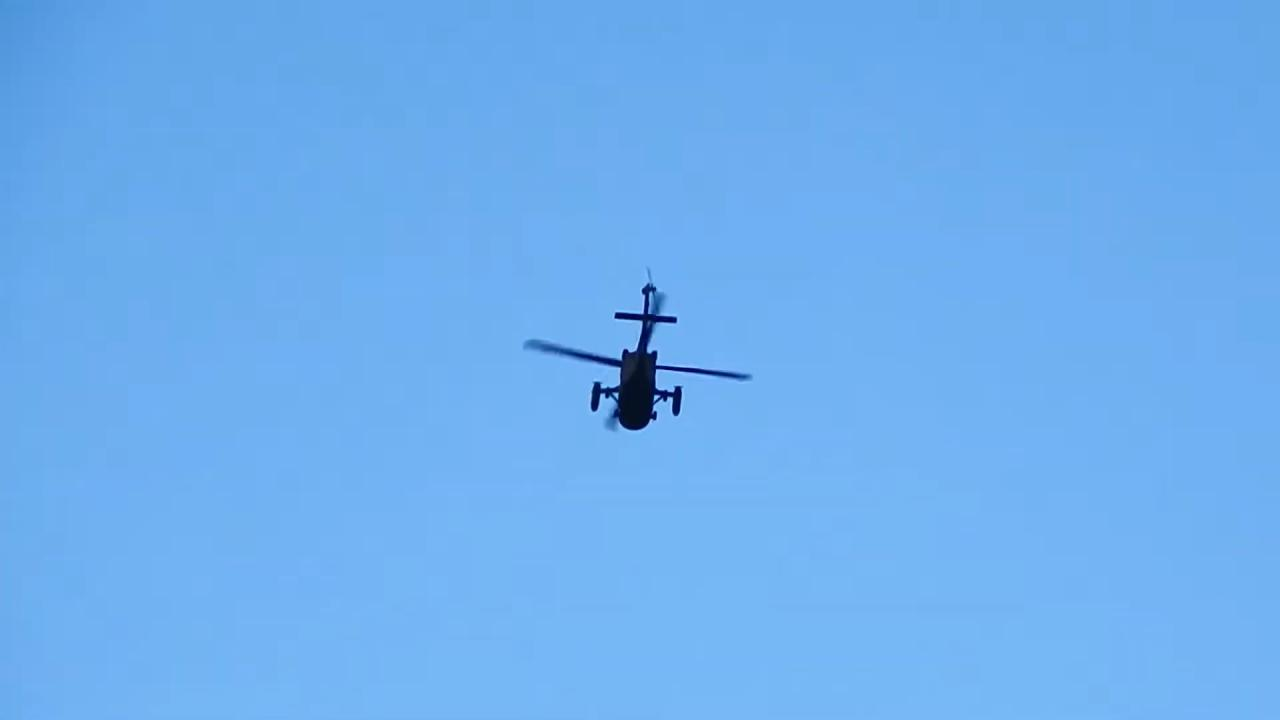Helicopter: (500, 254, 774, 461)
